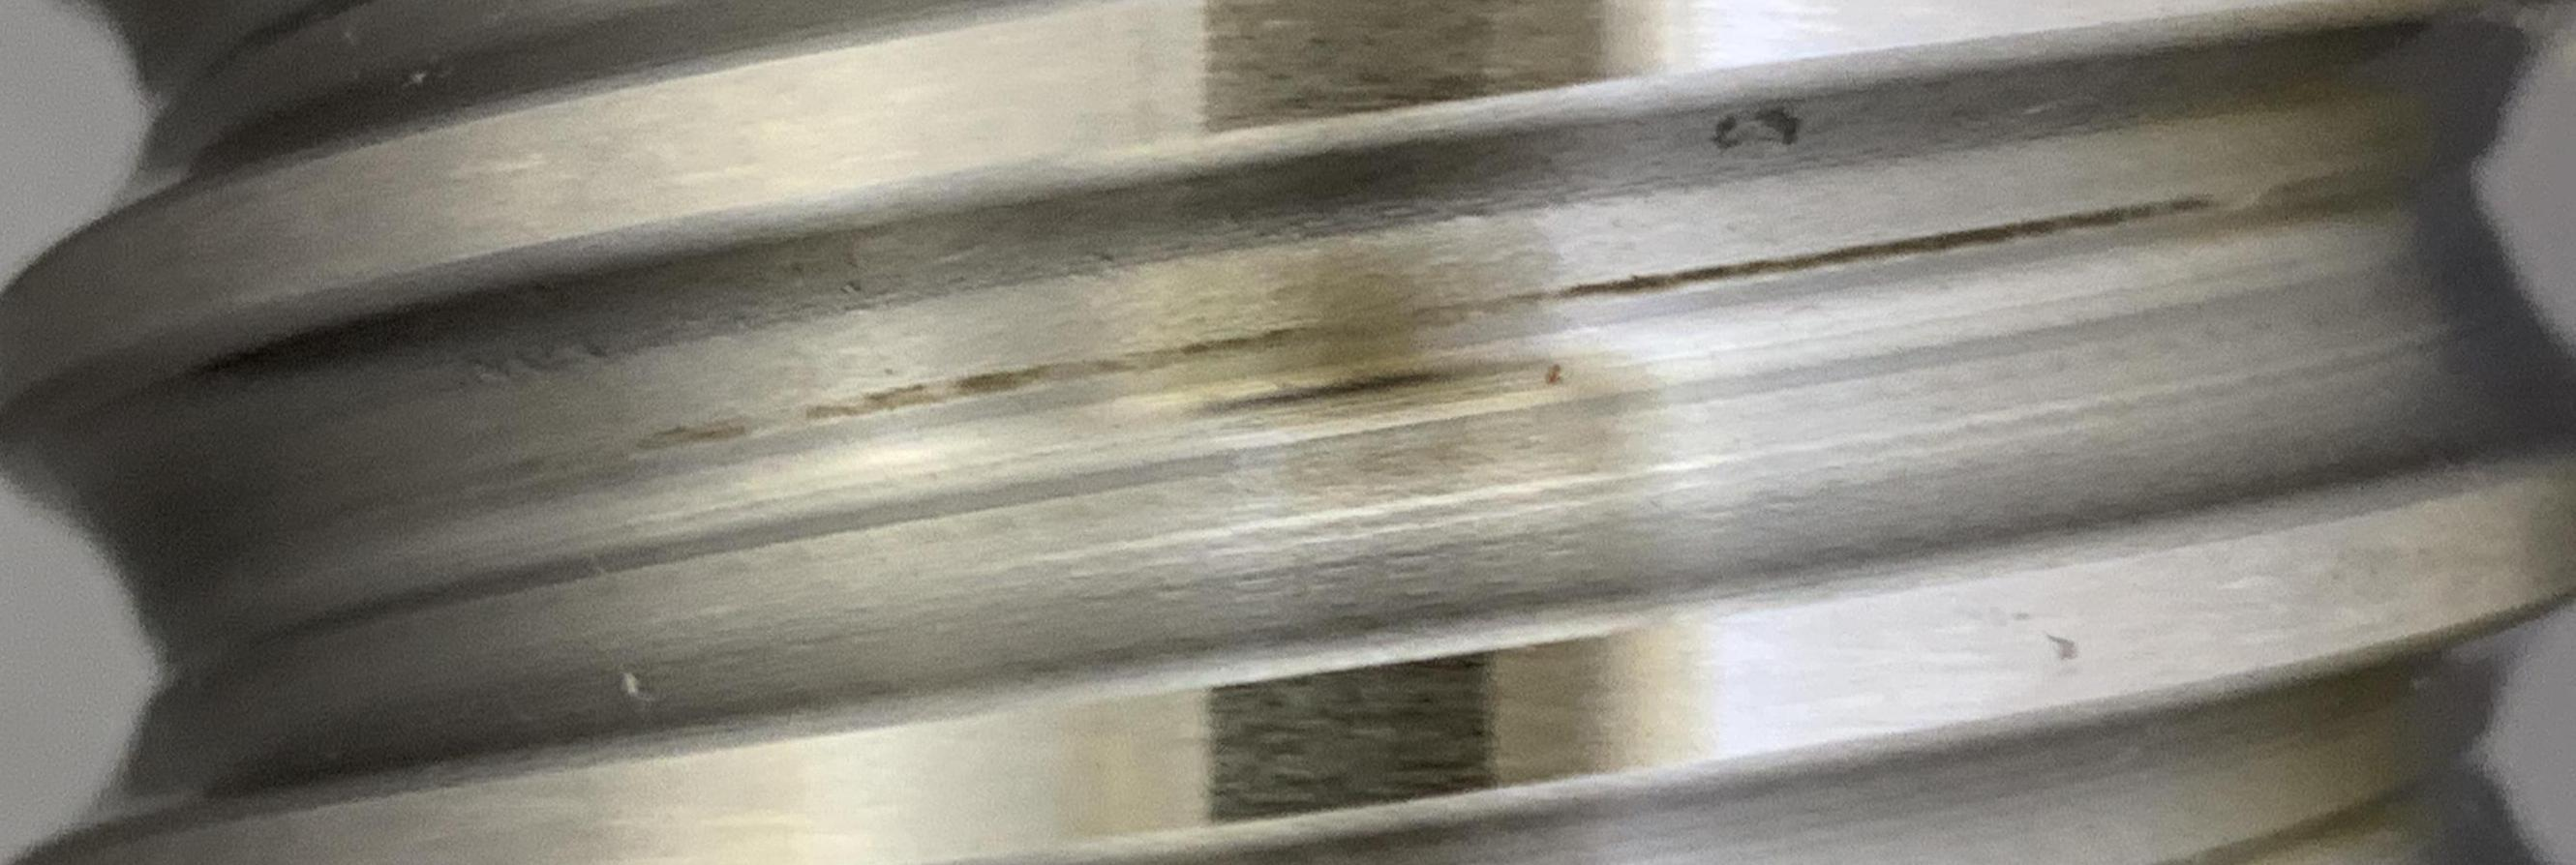pitting: (1714, 108, 1804, 148)
